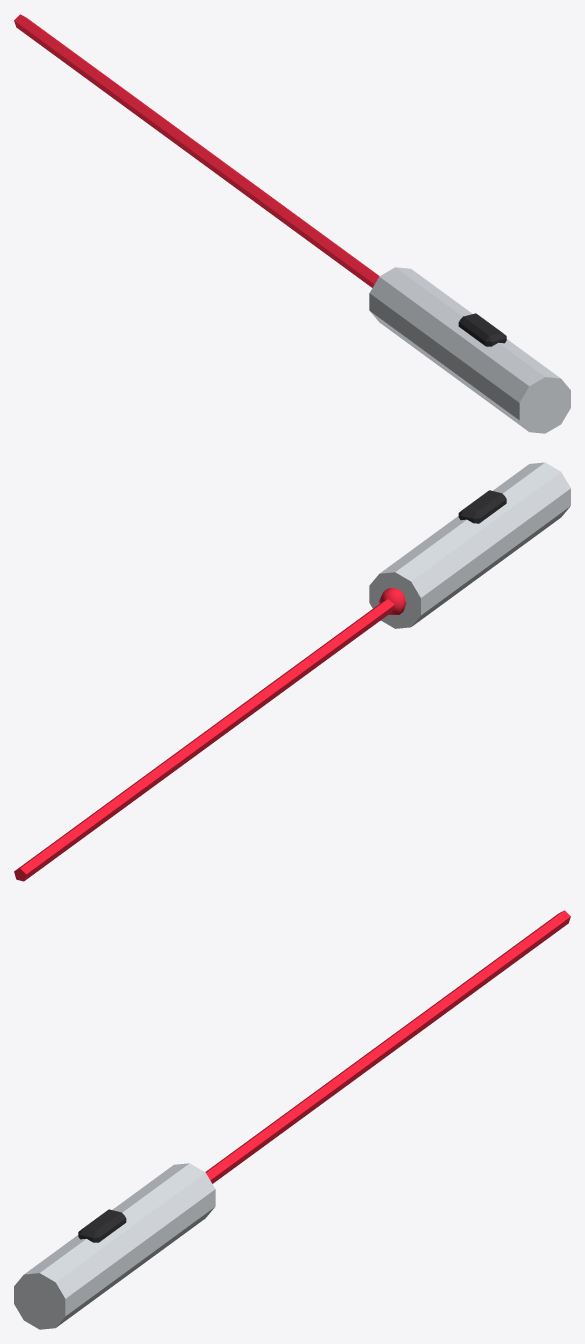
The model's file is relic_laser_pointer.fbx.
3 renders of one model, top to bottom at view 1: azimuth 30°, elevation 25°; view 2: azimuth 150°, elevation 25°; view 3: azimuth 330°, elevation 25°, orthographic.
Parts seen in each view (by area): view 1: Prop, Beam; view 2: Prop, Beam; view 3: Prop, Beam.
Part boxes in pixels (box(x1,y1,x2,y2)): Prop: box(369, 267, 570, 433); Beam: box(14, 14, 379, 287); Prop: box(369, 462, 570, 628); Beam: box(14, 599, 394, 881); Prop: box(14, 1163, 215, 1329); Beam: box(205, 910, 570, 1183).
Size of the model in its own units: 0.0476 by 0.84 by 0.056.
